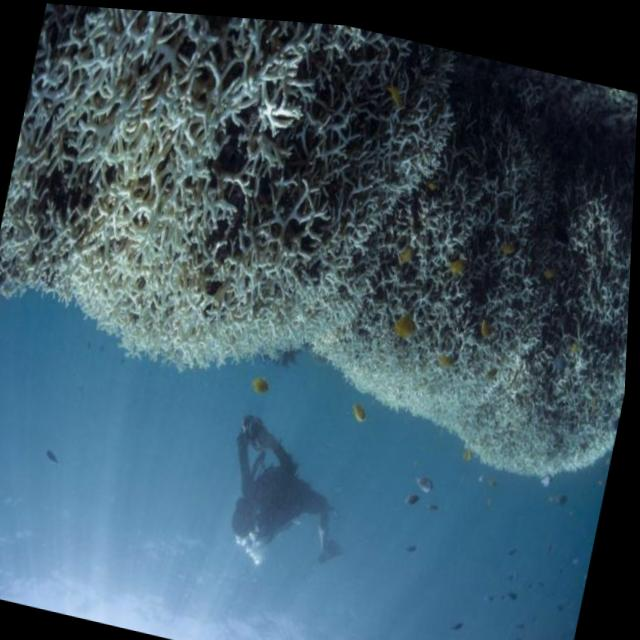Dead Coral: (203, 13, 640, 474), (0, 149, 88, 312)
